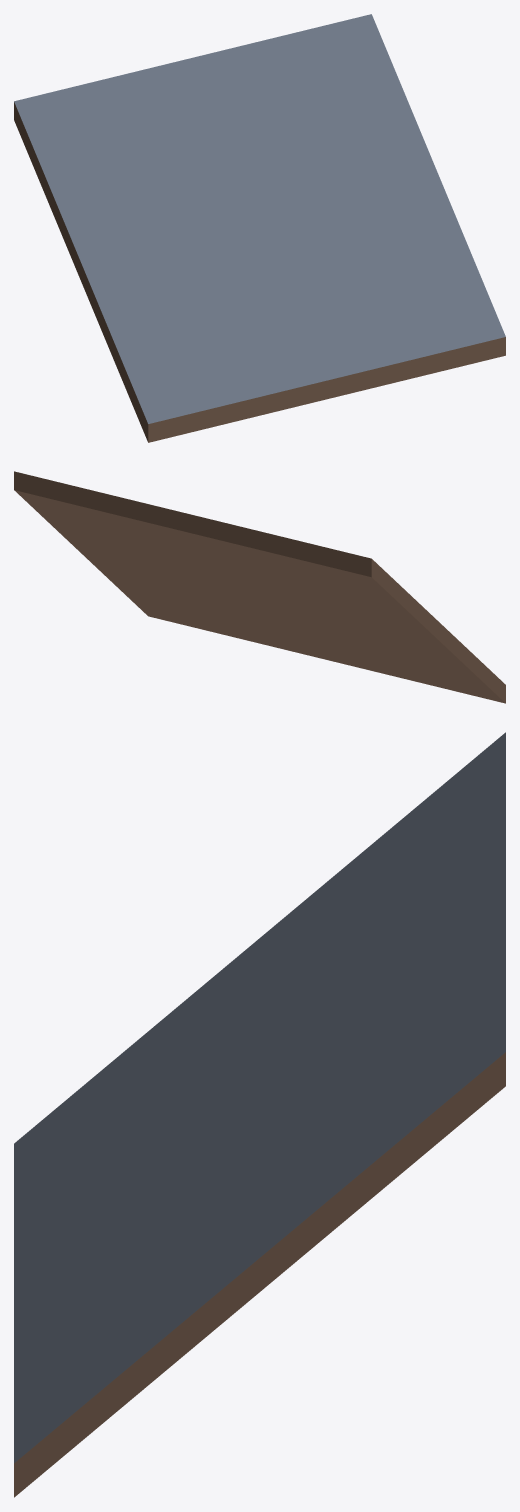
The model's file is haunted_roof_slope.glb.
3 renders of one model, top to bottom at view 1: azimuth 30°, elevation 25°; view 2: azimuth 150°, elevation 25°; view 3: azimuth 270°, elevation 25°, orthographic. The views are drawn at different scales.
Parts seen in each view (by area): view 1: Haunted_Roof_Slope; view 2: Haunted_Roof_Slope; view 3: Haunted_Roof_Slope.
Part boxes in pixels (bbox=[...]): Haunted_Roof_Slope: bbox=[14, 14, 505, 442]; Haunted_Roof_Slope: bbox=[14, 471, 505, 703]; Haunted_Roof_Slope: bbox=[14, 732, 505, 1497].
Bounding box in the file's own units: 4 × 2.6 × 2.6.
